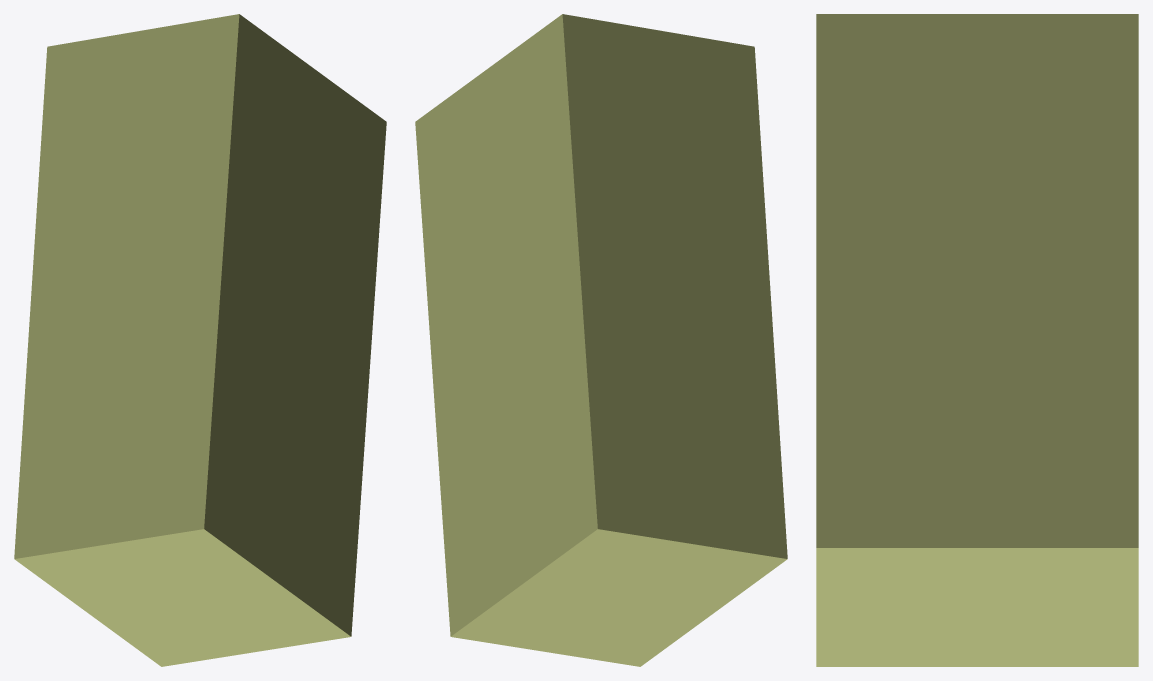
The picture shows the model from 3 angles, left to right: view 1: azimuth 30°, elevation 25°; view 2: azimuth 150°, elevation 25°; view 3: azimuth 270°, elevation 25°; orthographic projection. The views are drawn at different scales.
Visible parts, largest first — view 1: 0_2_1_3_0_3_1_1_2_3; view 2: 0_2_1_3_0_3_1_1_2_3; view 3: 0_2_1_3_0_3_1_1_2_3.
Boxes of the visible parts, x1,y1,x2,y2 form: 0_2_1_3_0_3_1_1_2_3: (14,14,386,666); 0_2_1_3_0_3_1_1_2_3: (415,14,787,666); 0_2_1_3_0_3_1_1_2_3: (816,14,1138,666).
Bounding box in the file's own units: 7.94 × 17.55 × 9.
